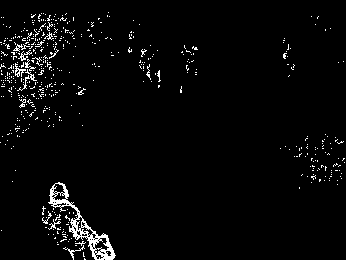person: (41, 181, 115, 260)
